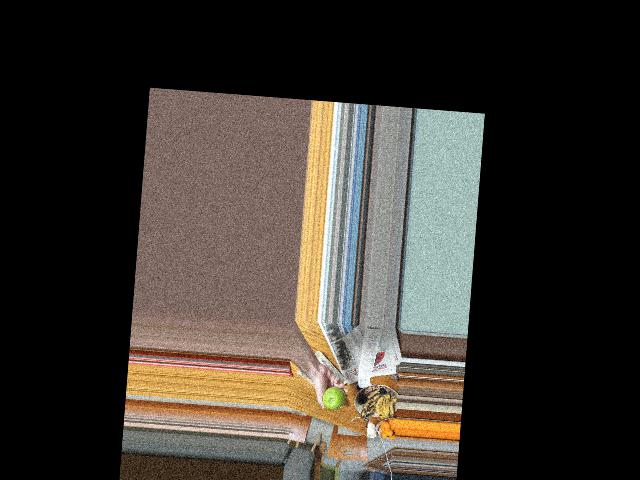apple: (319, 385, 345, 411)
